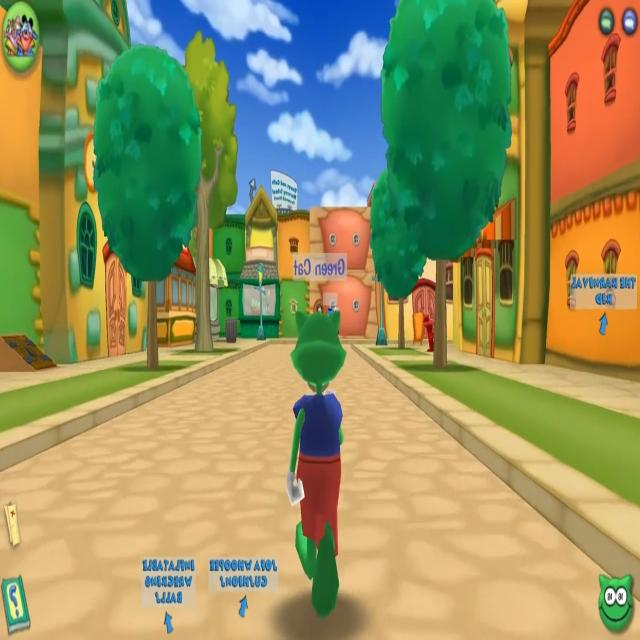shortchange: (321, 292, 339, 321)
